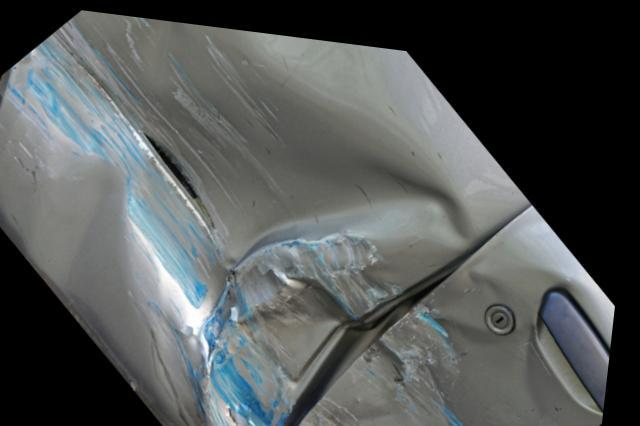crack: (142, 122, 221, 220)
dent: (10, 8, 474, 426), (299, 222, 611, 426)
